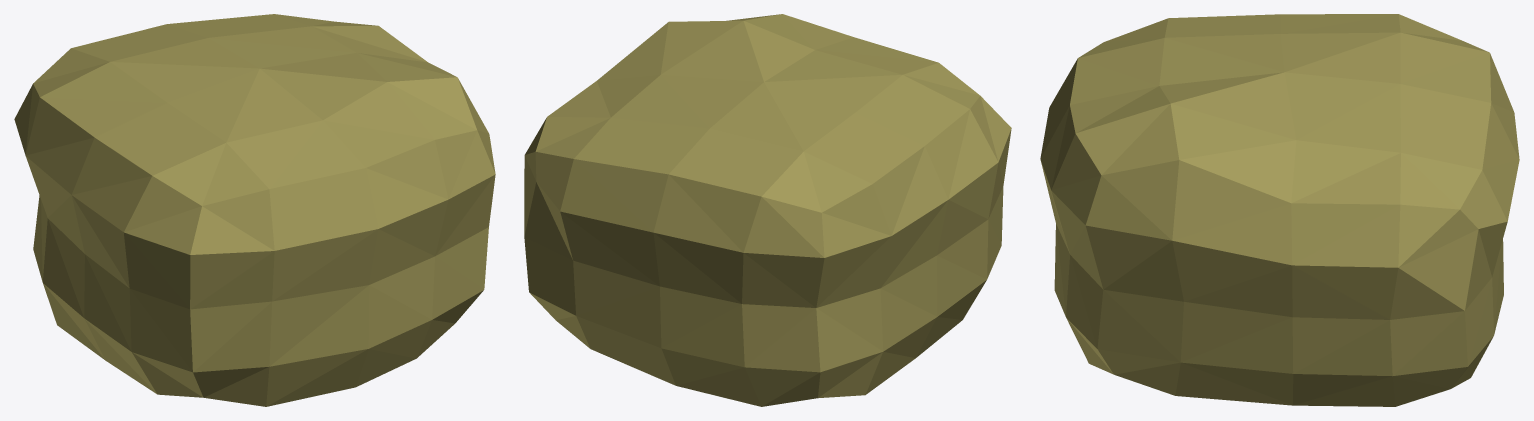
Rendered from gold.dae.
The picture shows the model from 3 angles, left to right: view 1: azimuth 30°, elevation 25°; view 2: azimuth 150°, elevation 25°; view 3: azimuth 270°, elevation 25°; orthographic projection. The views are drawn at different scales.
Visible parts, largest first — view 1: Cube; view 2: Cube; view 3: Cube.
Boxes of the visible parts, <box> form: Cube: <box>14,14,495,406</box>; Cube: <box>524,14,1011,406</box>; Cube: <box>1040,14,1519,406</box>.
Size of the model in its own units: 2.11 by 2.11 by 1.44.
